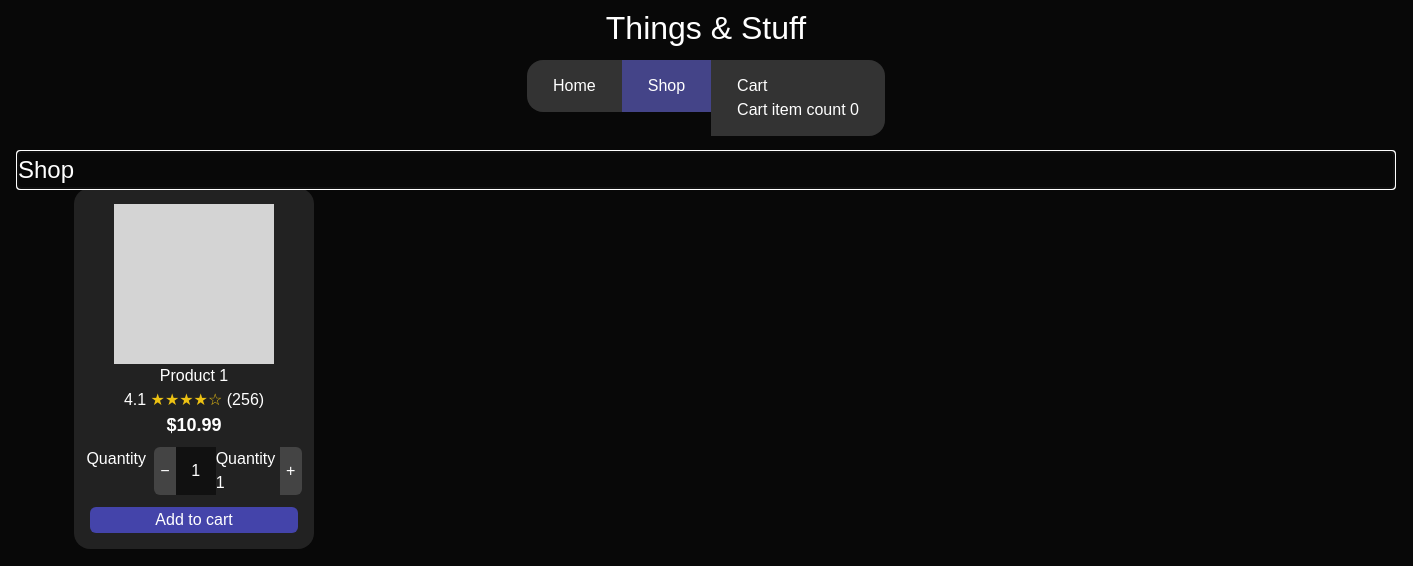
Increment button › increases value by 1
Click the button "+": (291, 471) top-left (280, 447), bottom-right (302, 495)
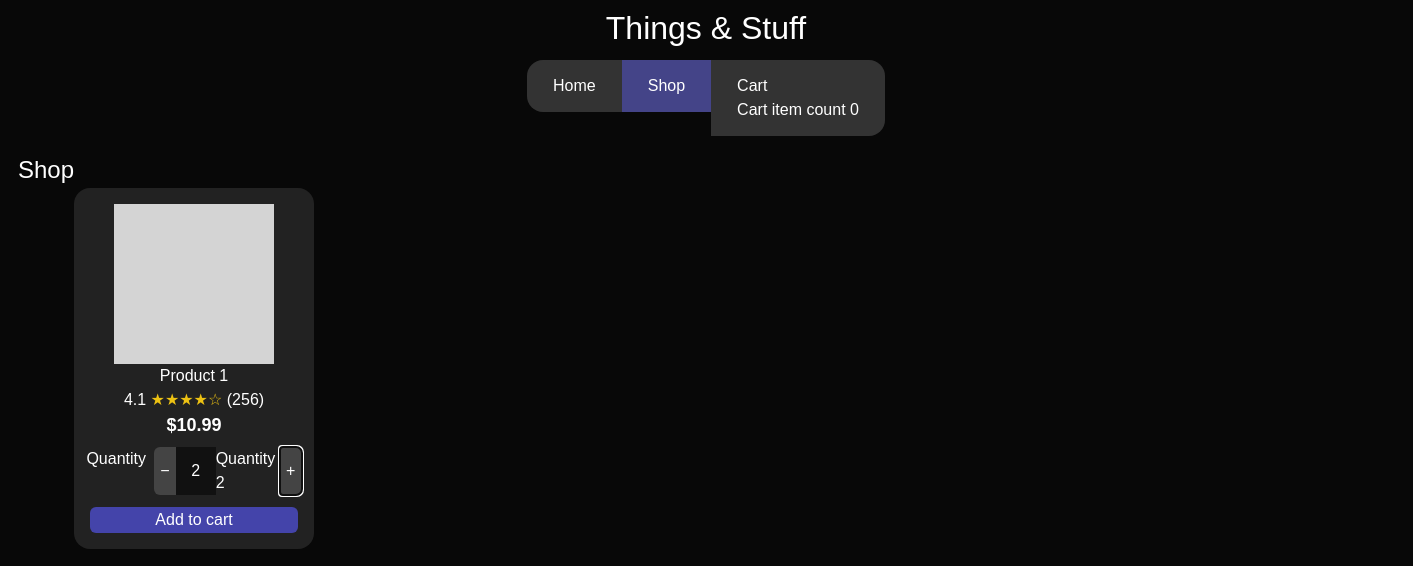
Now the number field labelled "Quantity" holds "2", box top-left (176, 447), bottom-right (216, 495)
